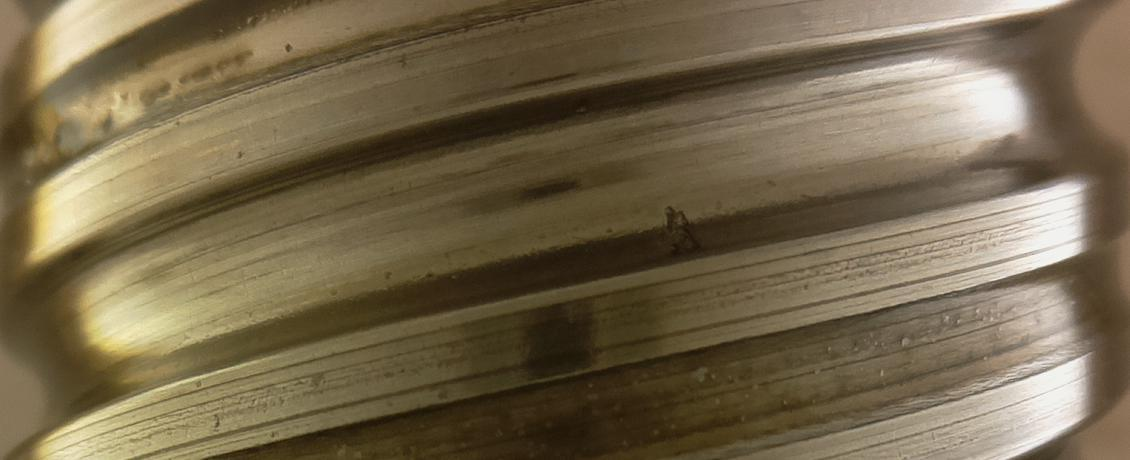pitting: (664, 206, 706, 256)
